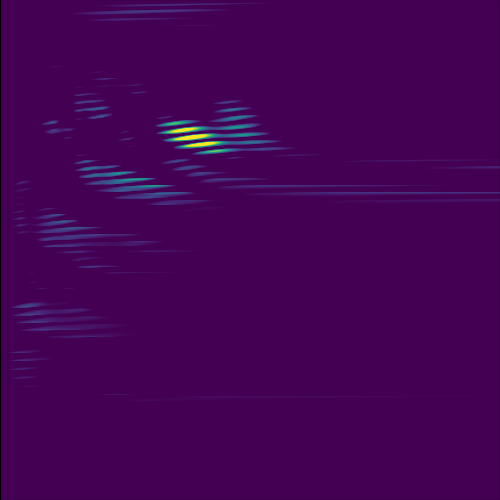semblance: (166, 115, 224, 155)
